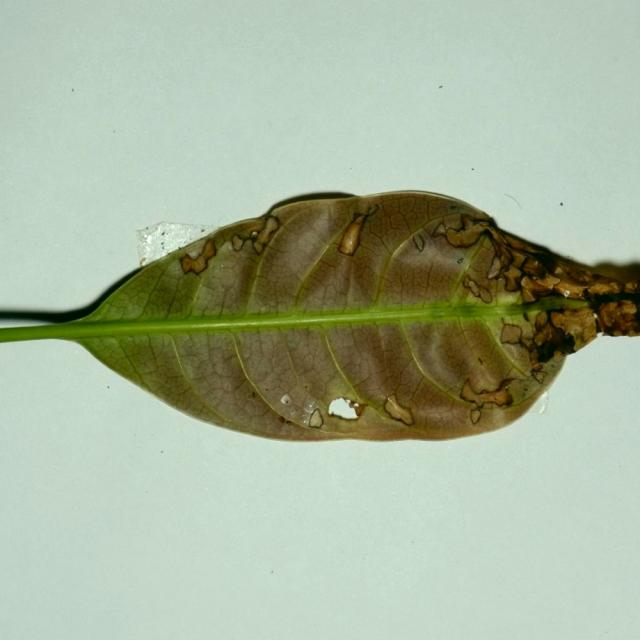Anthracnose: (135, 222, 218, 266), (338, 205, 377, 257), (324, 389, 367, 424), (382, 394, 414, 425), (463, 275, 493, 305), (499, 322, 525, 345), (529, 391, 548, 415), (308, 408, 323, 428), (412, 232, 426, 252), (531, 368, 548, 384), (470, 408, 481, 425), (280, 394, 292, 405), (139, 257, 147, 267), (563, 290, 570, 297), (457, 257, 464, 264)
Mango: (0, 191, 639, 444)
